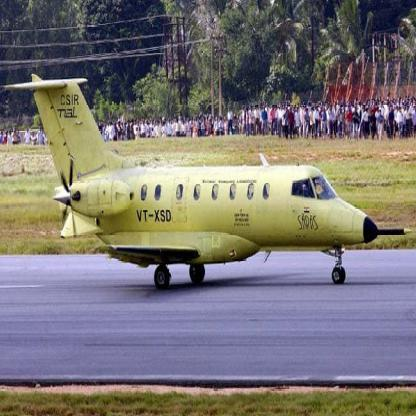CIV_Plane: (0, 69, 414, 289)
